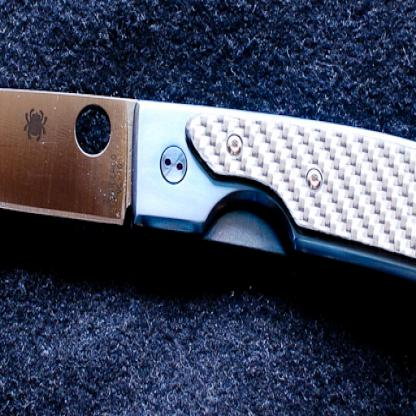knife: (0, 85, 415, 318)
